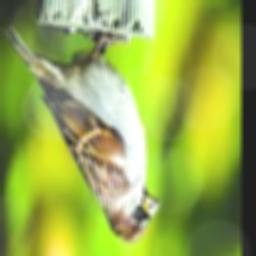Sparrow: (3, 23, 160, 241)
